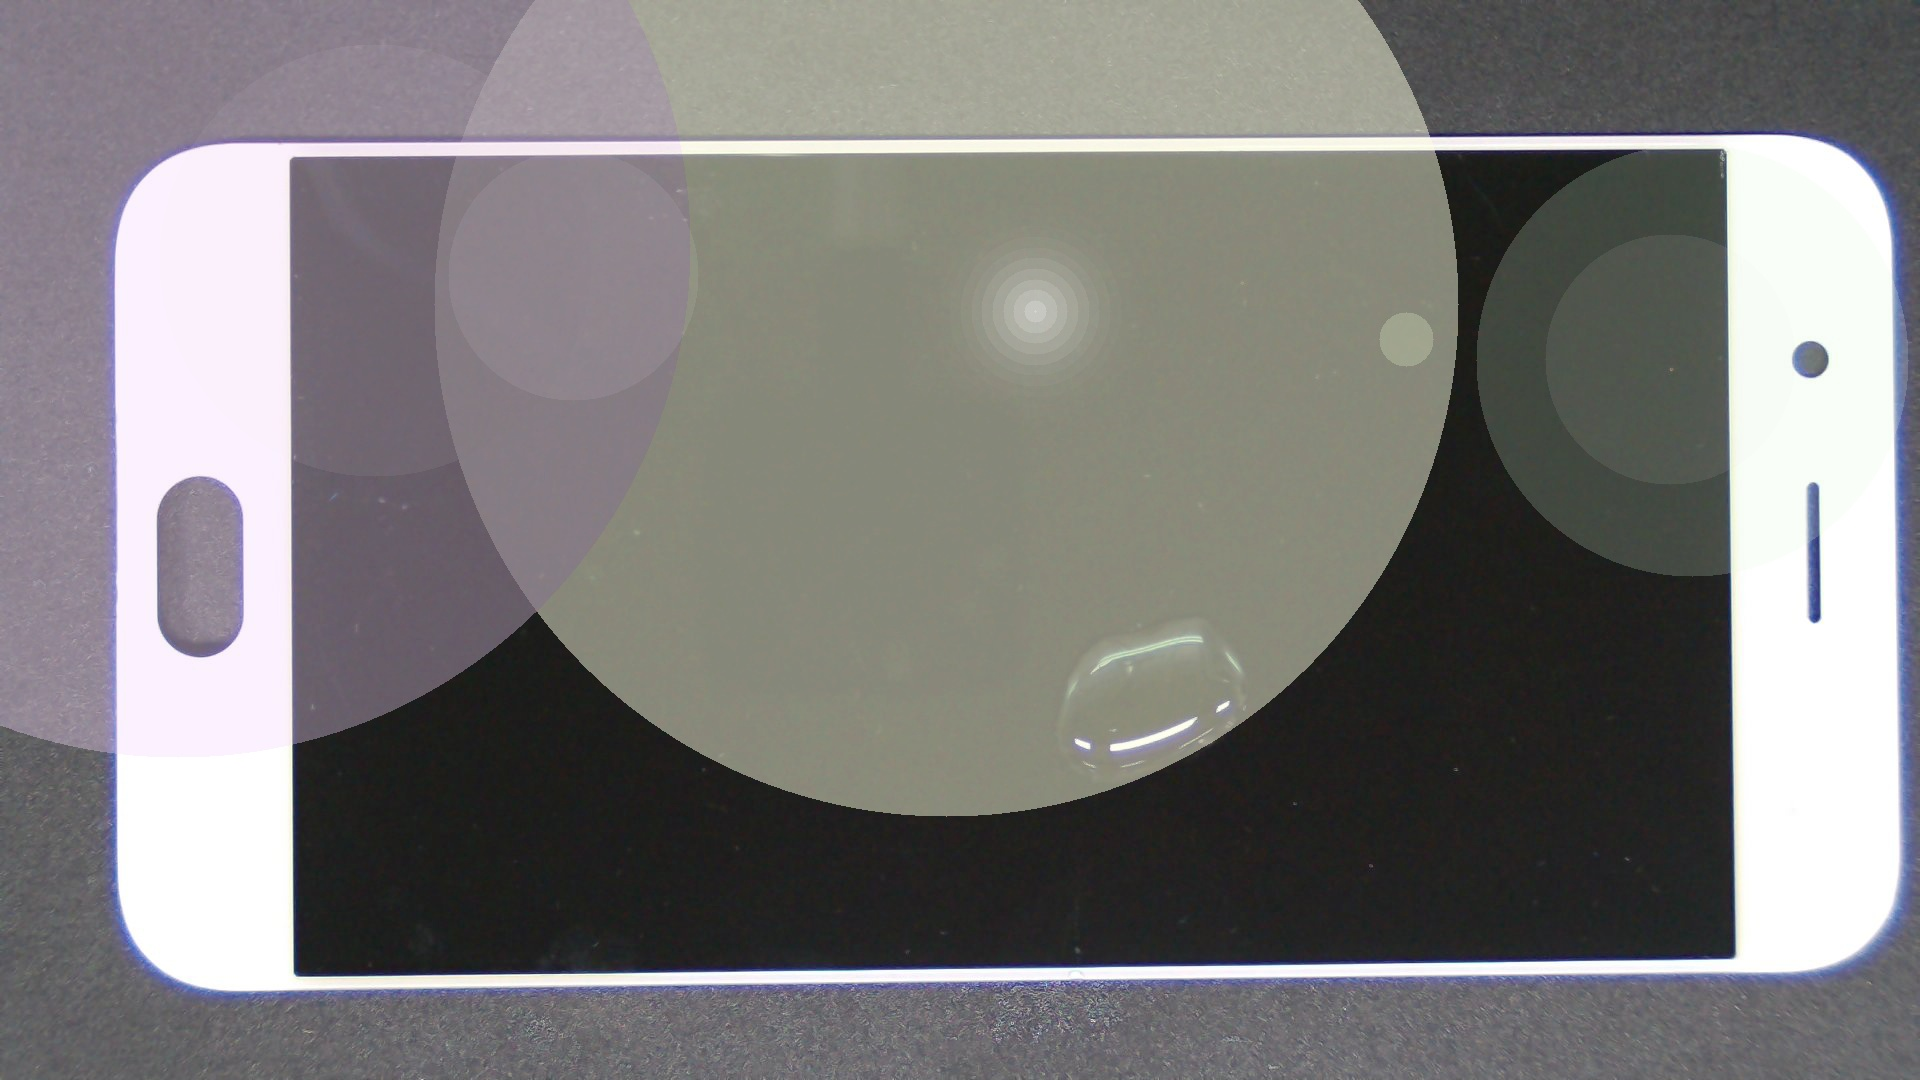oil: (603, 309, 1804, 926)
